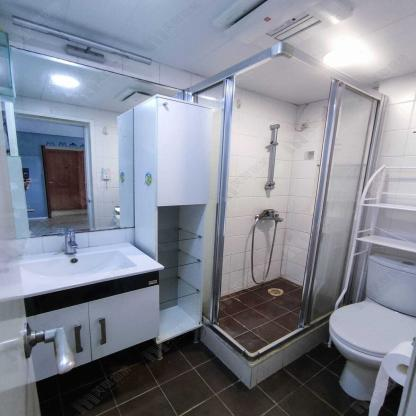Toilet: (328, 252, 416, 401)
Toilet Sink: (19, 241, 166, 299)
Water Cubicle: (184, 41, 390, 388)
